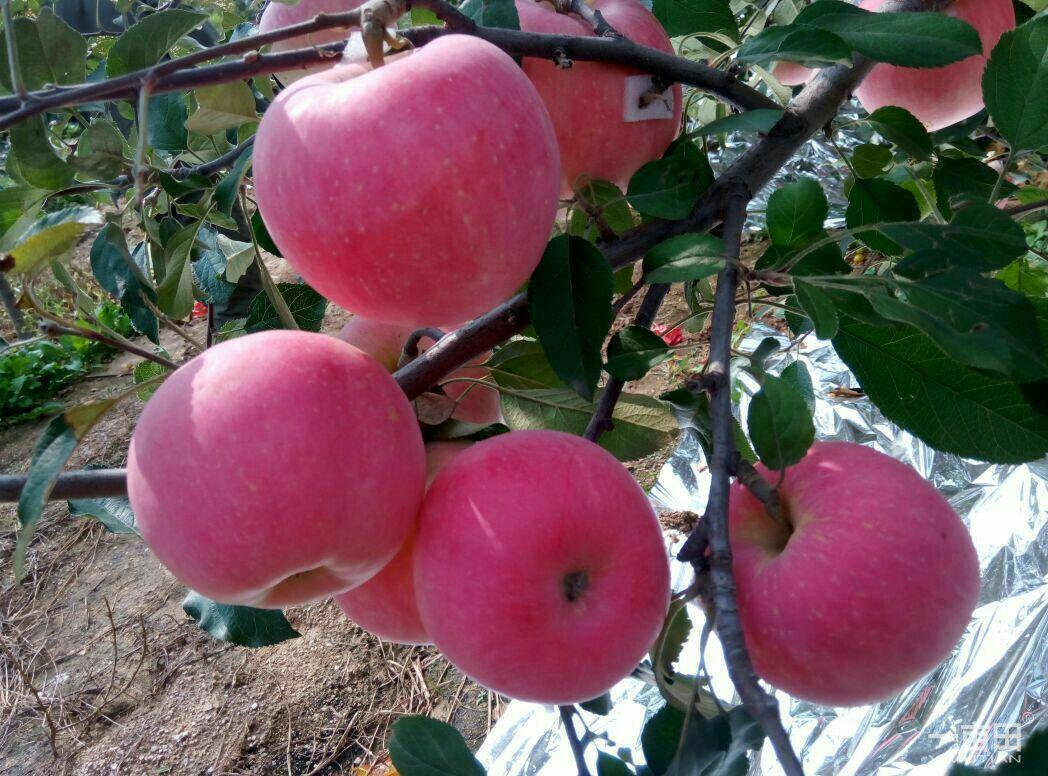apple: (251, 36, 560, 330), (129, 333, 425, 621), (388, 430, 673, 702), (720, 449, 973, 706)
